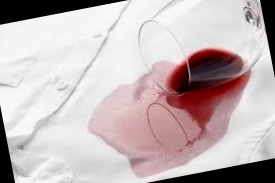wine: (90, 68, 234, 177), (139, 51, 251, 119), (132, 150, 188, 183)
